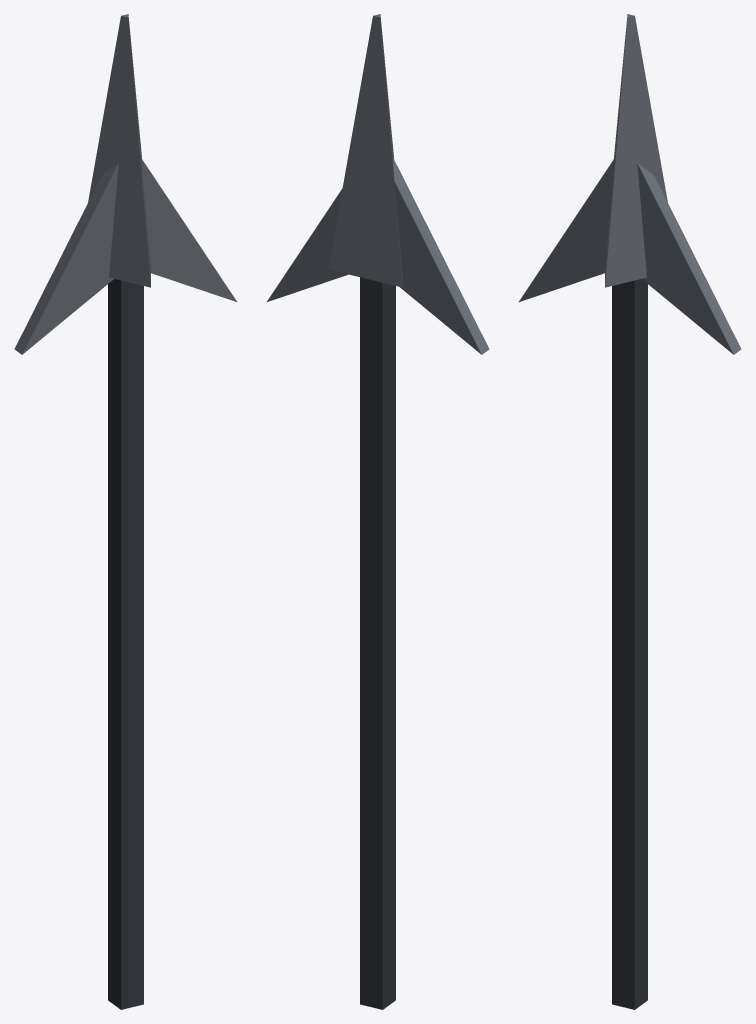
The model's file is SM_Prop_Harpoon_LQ.glb.
3 renders of one model, left to right at view 1: azimuth 30°, elevation 25°; view 2: azimuth 150°, elevation 25°; view 3: azimuth 330°, elevation 25°, orthographic.
Visible parts, largest first — view 1: SM_Prop_Harpoon_LQ; view 2: SM_Prop_Harpoon_LQ; view 3: SM_Prop_Harpoon_LQ.
Part boxes in pixels (box(x1,y1,x2,y2)): SM_Prop_Harpoon_LQ: box(14, 14, 236, 1009); SM_Prop_Harpoon_LQ: box(267, 14, 489, 1009); SM_Prop_Harpoon_LQ: box(519, 14, 741, 1009).
Size of the model in its own units: 0.4 by 1.75 by 0.12.
Materials: 1 (1 with a texture image).
